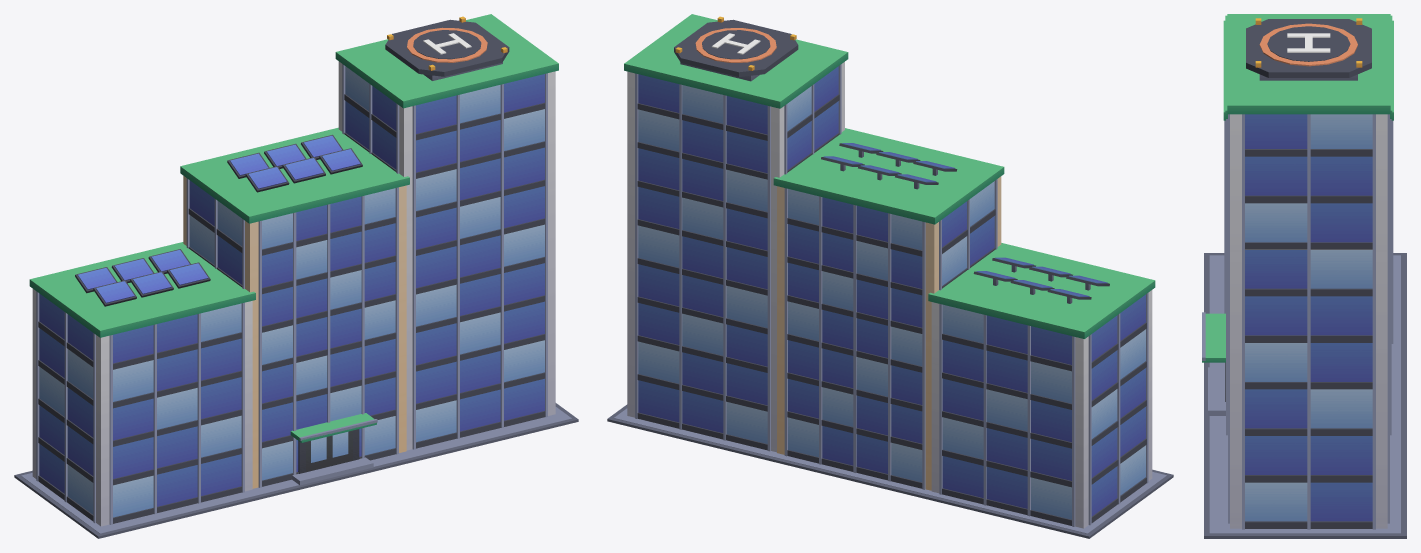
File: off_stepped_terrace_3x1.glb
3 renders of one model, left to right at view 1: azimuth 30°, elevation 25°; view 2: azimuth 150°, elevation 25°; view 3: azimuth 270°, elevation 25°, orthographic. The views are drawn at different scales.
Parts seen in each view (by area): view 1: off_stepped_terrace_3x1; view 2: off_stepped_terrace_3x1; view 3: off_stepped_terrace_3x1.
Boxes of the visible parts, box(x1,y1,x2,y2) form: off_stepped_terrace_3x1: box(14, 14, 578, 538); off_stepped_terrace_3x1: box(607, 14, 1173, 538); off_stepped_terrace_3x1: box(1202, 14, 1406, 538).
Size of the model in its own units: 5.74 by 4.22 by 1.75.
Materials: 1 (1 with a texture image).
